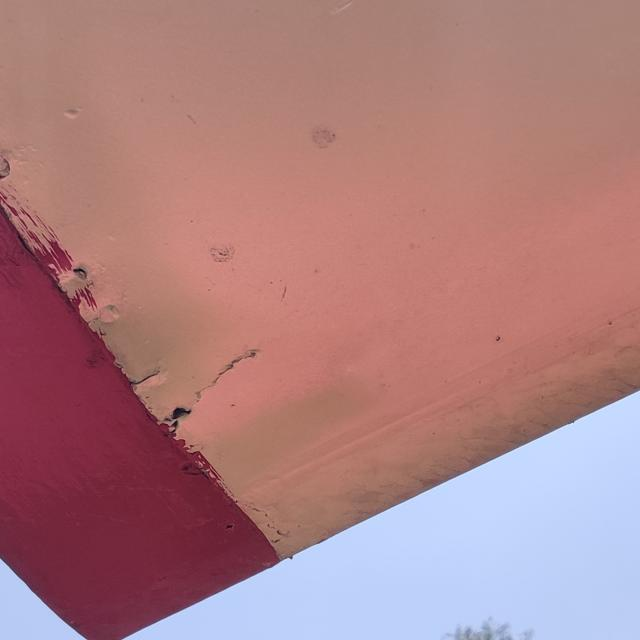crack: (150, 340, 268, 443), (124, 364, 165, 396)
